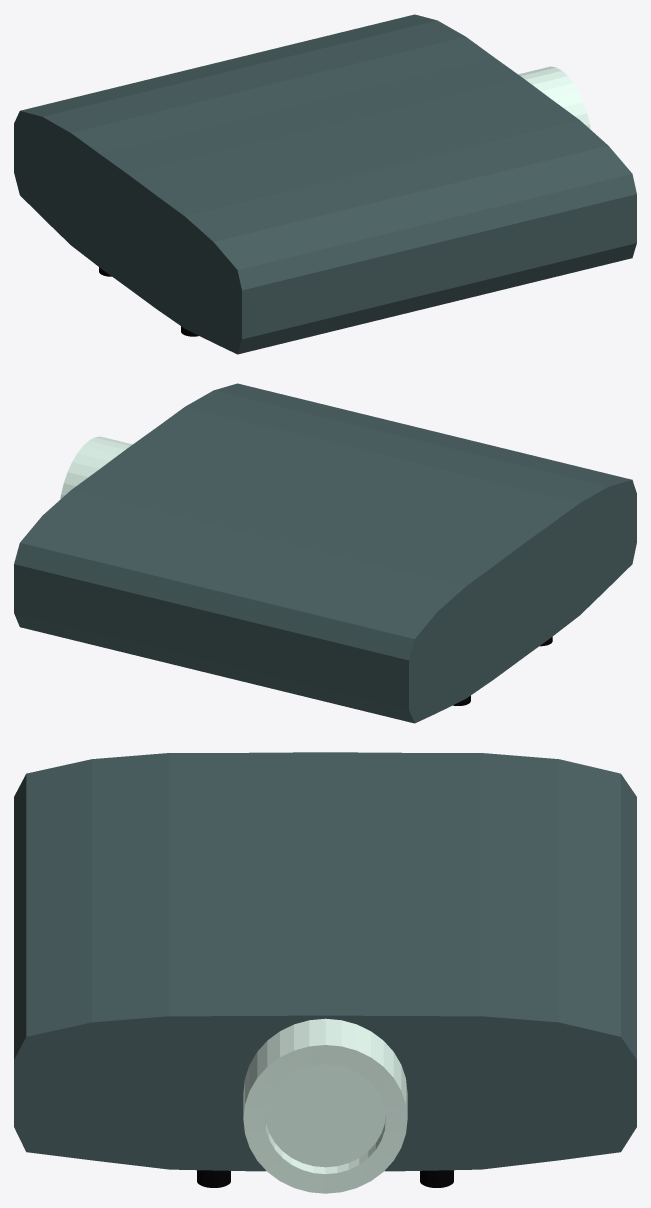
Rendered from Projector.fbx.
3 renders of one model, top to bottom at view 1: azimuth 30°, elevation 25°; view 2: azimuth 150°, elevation 25°; view 3: azimuth 270°, elevation 25°, orthographic. The views are drawn at different scales.
Parts seen in each view (by area): view 1: Cube, Cylinder; view 2: Cube, Cylinder; view 3: Cube, Cylinder, Cylinder.002.
Boxes of the visible parts, x1,y1,x2,y2 form: Cube: [14, 14, 636, 354]; Cylinder: [518, 66, 590, 129]; Cube: [14, 383, 636, 723]; Cylinder: [60, 436, 132, 499]; Cube: [14, 752, 636, 1171]; Cylinder: [243, 1018, 407, 1193]; Cylinder.002: [197, 1170, 453, 1187].
Bounding box in the file's own units: 220 × 64.22 × 200.
